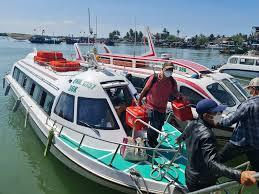Ship: (6, 52, 189, 194), (76, 35, 250, 118)
